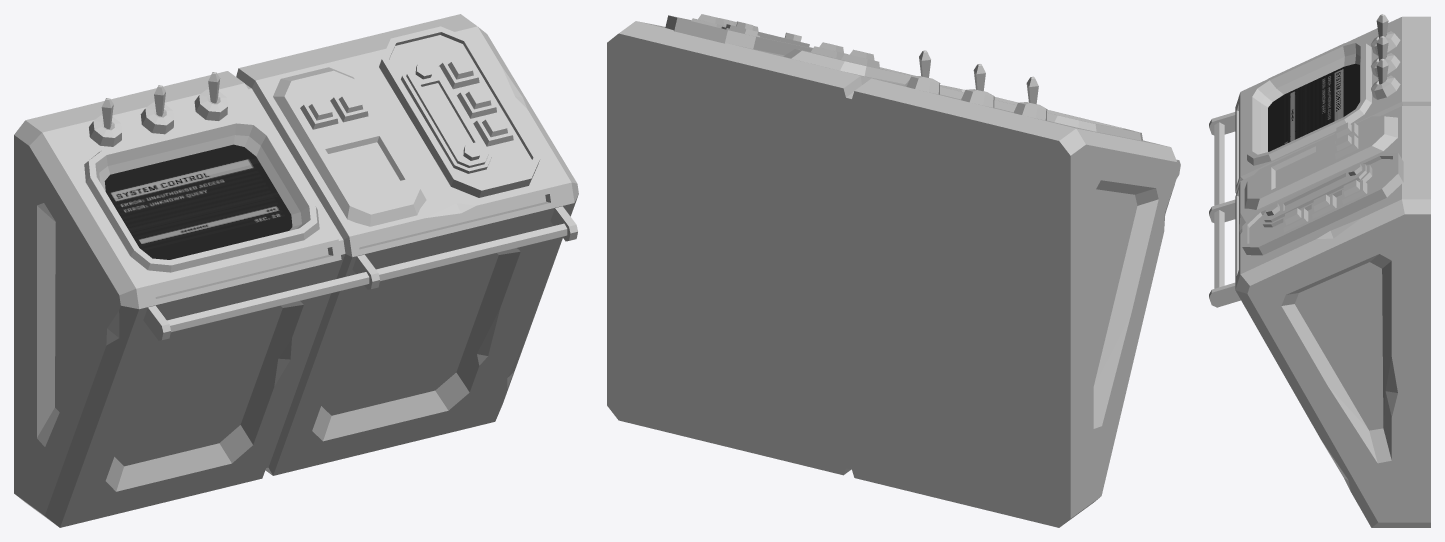
Rendered from SM_Prop_Greeble_07.fbx.
3 renders of one model, left to right at view 1: azimuth 30°, elevation 25°; view 2: azimuth 150°, elevation 25°; view 3: azimuth 270°, elevation 25°, orthographic. The views are drawn at different scales.
Visible parts, largest first — view 1: SM_Prop_Greeble_07; view 2: SM_Prop_Greeble_07; view 3: SM_Prop_Greeble_07.
Boxes of the visible parts, box(x1,y1,x2,y2) form: SM_Prop_Greeble_07: box(14, 14, 578, 527); SM_Prop_Greeble_07: box(607, 14, 1180, 527); SM_Prop_Greeble_07: box(1209, 14, 1430, 527).
Bounding box in the file's own units: 125 × 107 × 61.04.
